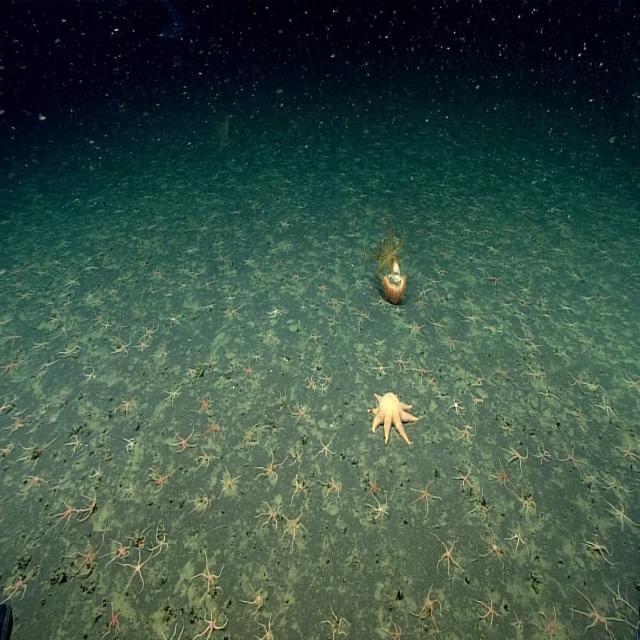brittle-stars: (573, 585, 612, 635), (70, 535, 102, 574), (127, 550, 153, 592), (195, 554, 222, 594), (436, 535, 463, 573), (480, 528, 506, 566), (4, 568, 31, 604), (124, 520, 155, 551), (197, 610, 228, 640), (35, 348, 59, 386), (537, 606, 563, 640), (585, 532, 612, 564), (282, 510, 305, 546), (417, 588, 440, 624), (558, 441, 583, 473), (411, 482, 438, 511), (606, 500, 633, 529), (623, 594, 640, 640), (192, 294, 222, 320), (476, 596, 500, 628), (604, 474, 633, 500), (259, 451, 284, 480), (324, 608, 348, 638), (208, 241, 235, 267), (562, 265, 592, 288), (260, 501, 282, 532), (219, 468, 240, 500), (56, 500, 79, 529), (18, 441, 44, 465), (78, 398, 101, 425), (173, 429, 196, 455), (616, 441, 639, 467), (506, 442, 528, 469), (82, 490, 100, 522), (108, 540, 132, 564), (244, 585, 263, 615), (472, 491, 493, 518), (150, 468, 172, 493), (204, 415, 225, 441), (492, 461, 512, 488), (193, 488, 212, 516), (453, 422, 476, 445), (509, 524, 528, 551), (105, 608, 122, 638), (512, 304, 532, 329), (152, 527, 169, 555), (241, 422, 260, 447), (258, 617, 278, 640), (371, 494, 390, 518), (36, 396, 52, 424), (26, 471, 47, 492), (290, 402, 310, 424), (0, 356, 22, 376), (322, 478, 341, 501), (6, 413, 26, 434), (163, 626, 193, 640), (349, 271, 370, 291), (567, 404, 586, 426), (524, 240, 542, 263), (268, 252, 288, 272), (353, 245, 374, 264), (455, 466, 473, 488), (598, 397, 616, 419), (184, 262, 202, 284), (318, 436, 335, 459), (118, 395, 137, 415), (413, 359, 433, 378), (422, 228, 442, 247), (198, 448, 216, 469), (386, 619, 404, 640), (196, 393, 214, 414), (519, 493, 536, 515), (164, 385, 183, 404), (526, 362, 544, 382), (441, 334, 461, 352), (274, 387, 289, 411), (458, 248, 478, 266), (392, 351, 409, 372), (67, 436, 85, 455), (567, 372, 584, 392), (408, 317, 425, 337), (2, 331, 22, 348), (624, 372, 640, 393), (534, 442, 549, 464), (426, 314, 444, 332), (459, 310, 478, 327), (449, 397, 465, 417), (122, 478, 138, 498), (62, 344, 82, 360), (289, 446, 303, 468), (112, 340, 130, 357), (364, 478, 380, 497), (513, 611, 526, 634), (291, 476, 305, 497), (373, 296, 391, 312), (517, 332, 535, 348), (155, 345, 170, 364), (143, 321, 159, 338), (437, 246, 454, 262), (354, 306, 369, 324), (324, 238, 339, 256), (496, 360, 510, 379), (0, 398, 13, 418), (374, 359, 390, 375), (468, 391, 484, 407), (486, 320, 502, 336), (58, 322, 73, 339), (563, 319, 580, 334), (281, 238, 298, 253), (84, 367, 98, 385), (556, 346, 570, 364), (0, 441, 14, 459), (205, 354, 219, 372), (269, 418, 282, 437), (32, 337, 48, 352), (487, 272, 503, 287), (578, 335, 594, 350), (346, 258, 358, 278), (124, 437, 138, 454), (470, 371, 484, 388), (91, 462, 104, 480), (501, 418, 514, 436), (161, 287, 176, 302), (269, 305, 285, 319), (136, 339, 152, 353), (99, 521, 113, 537), (20, 288, 36, 302), (435, 263, 449, 279), (113, 316, 126, 333), (250, 375, 263, 392), (65, 274, 80, 288), (309, 331, 322, 347), (85, 287, 98, 303), (327, 312, 340, 328), (426, 274, 440, 288), (558, 301, 572, 315), (328, 295, 343, 308), (168, 313, 181, 328), (539, 262, 551, 278), (108, 282, 120, 298), (550, 244, 566, 256), (243, 359, 254, 376), (317, 281, 331, 294), (306, 377, 318, 392), (203, 278, 215, 293), (320, 372, 332, 387), (266, 328, 277, 344), (290, 270, 303, 283), (498, 260, 511, 273), (595, 290, 608, 303), (500, 299, 512, 313), (581, 292, 595, 304), (230, 305, 242, 319), (588, 379, 600, 393), (426, 376, 438, 390), (46, 313, 58, 327), (463, 290, 474, 305), (434, 290, 445, 305), (473, 238, 488, 249), (243, 254, 256, 266), (178, 280, 190, 293), (150, 268, 162, 281), (253, 267, 265, 280), (463, 223, 476, 235), (417, 286, 430, 298), (414, 299, 427, 311), (85, 263, 98, 275), (429, 215, 442, 227), (225, 290, 236, 304), (588, 470, 599, 484), (486, 243, 500, 254), (95, 310, 105, 325), (518, 296, 530, 308), (464, 211, 476, 223), (0, 313, 9, 329), (520, 283, 531, 296), (351, 194, 362, 207), (310, 361, 320, 375), (102, 318, 112, 332), (177, 266, 188, 278), (251, 351, 262, 363), (444, 225, 456, 236), (394, 306, 405, 317), (483, 224, 493, 236), (315, 266, 325, 278), (319, 384, 328, 396), (298, 302, 306, 314)
